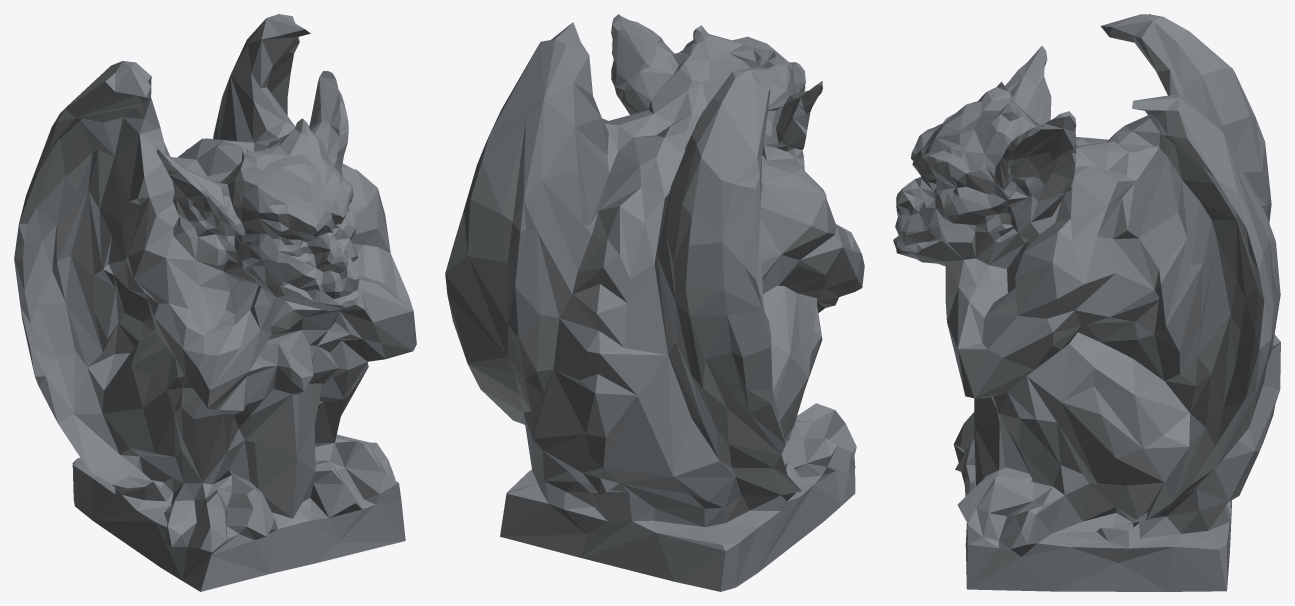
File: Gargouille_1.FBX
3 views of the same model, side by side, from view 1: azimuth 30°, elevation 25°; view 2: azimuth 150°, elevation 25°; view 3: azimuth 270°, elevation 25° (orthographic). The views are drawn at different scales.
Visible parts, largest first — view 1: Gargouille_1; view 2: Gargouille_1; view 3: Gargouille_1.
Part boxes in pixels (bbox=[...]): Gargouille_1: bbox=[14, 14, 416, 591]; Gargouille_1: bbox=[445, 14, 864, 591]; Gargouille_1: bbox=[893, 14, 1280, 591].
Size of the model in its own units: 60.55 by 89.12 by 65.44.
1 material, 1 textured.
